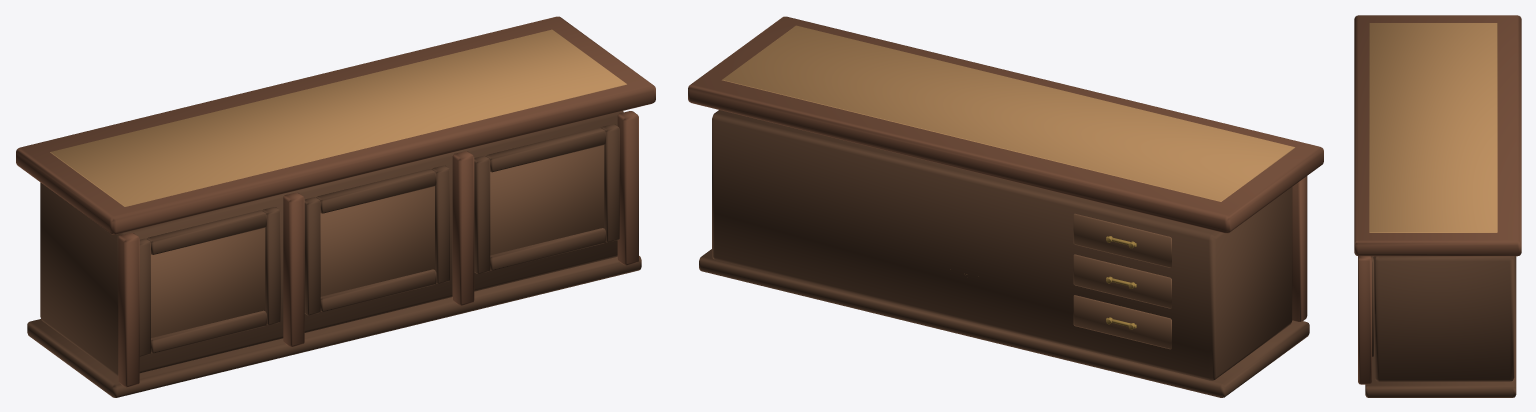
The model's file is asset_061_front_desk_counter_shell.glb.
The picture shows the model from 3 angles, left to right: view 1: azimuth 30°, elevation 25°; view 2: azimuth 150°, elevation 25°; view 3: azimuth 270°, elevation 25°; orthographic projection. The views are drawn at different scales.
Visible parts, largest first — view 1: MESH_CustomerRaisedPanelSet, MESH_CounterTopInlay, MESH_CounterTop, MESH_CounterCarcass, MESH_CustomerPilasterSet, MESH_CounterPlinth; view 2: MESH_CounterCarcass, MESH_CounterTopInlay, MESH_CounterTop, MESH_CounterPlinth, MESH_StaffDrawerFrontSet, MESH_CustomerPilasterSet; view 3: MESH_CounterTopInlay, MESH_CounterCarcass, MESH_CounterTop, MESH_CounterPlinth, MESH_CustomerPilasterSet, MESH_CustomerRaisedPanelSet.
Part boxes in pixels (x1,y1,x2,y2): MESH_CustomerRaisedPanelSet: [139, 124, 619, 356]; MESH_CounterTopInlay: [50, 29, 626, 206]; MESH_CounterTop: [16, 16, 655, 234]; MESH_CounterCarcass: [40, 111, 623, 376]; MESH_CustomerPilasterSet: [118, 111, 638, 387]; MESH_CounterPlinth: [27, 256, 641, 397]; MESH_CounterCarcass: [712, 110, 1292, 380]; MESH_CounterTopInlay: [722, 25, 1295, 201]; MESH_CounterTop: [688, 16, 1323, 233]; MESH_CounterPlinth: [699, 249, 1309, 397]; MESH_StaffDrawerFrontSet: [1073, 213, 1171, 349]; MESH_CustomerPilasterSet: [1292, 176, 1307, 321]; MESH_CounterTopInlay: [1369, 23, 1497, 232]; MESH_CounterCarcass: [1374, 256, 1514, 381]; MESH_CounterTop: [1354, 15, 1521, 256]; MESH_CounterPlinth: [1365, 256, 1516, 397]; MESH_CustomerPilasterSet: [1358, 256, 1371, 384]; MESH_CustomerRaisedPanelSet: [1372, 256, 1373, 356].
Size of the model in its own units: 2.93 by 0.967 by 0.91.
